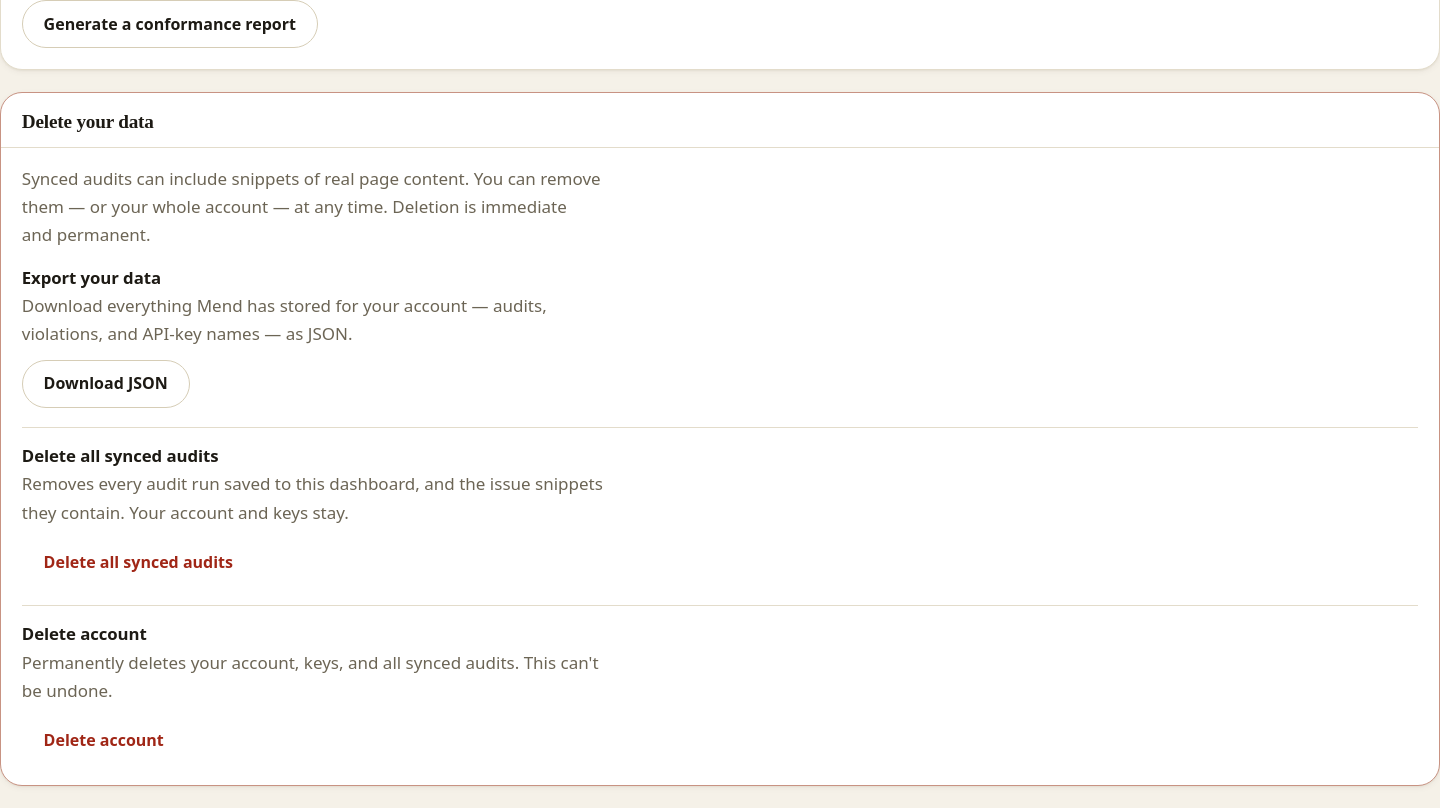
Test case: AccountClient — danger zone › requires two clicks to delete all audits, and Cancel disarms
The width and height of the screenshot is (1440, 808).
(page scrolled)
Note: First click only arms — nothing deleted yet.
Click the button "Delete all synced audits". click: click(138, 562)
box: [22,538,255,586]
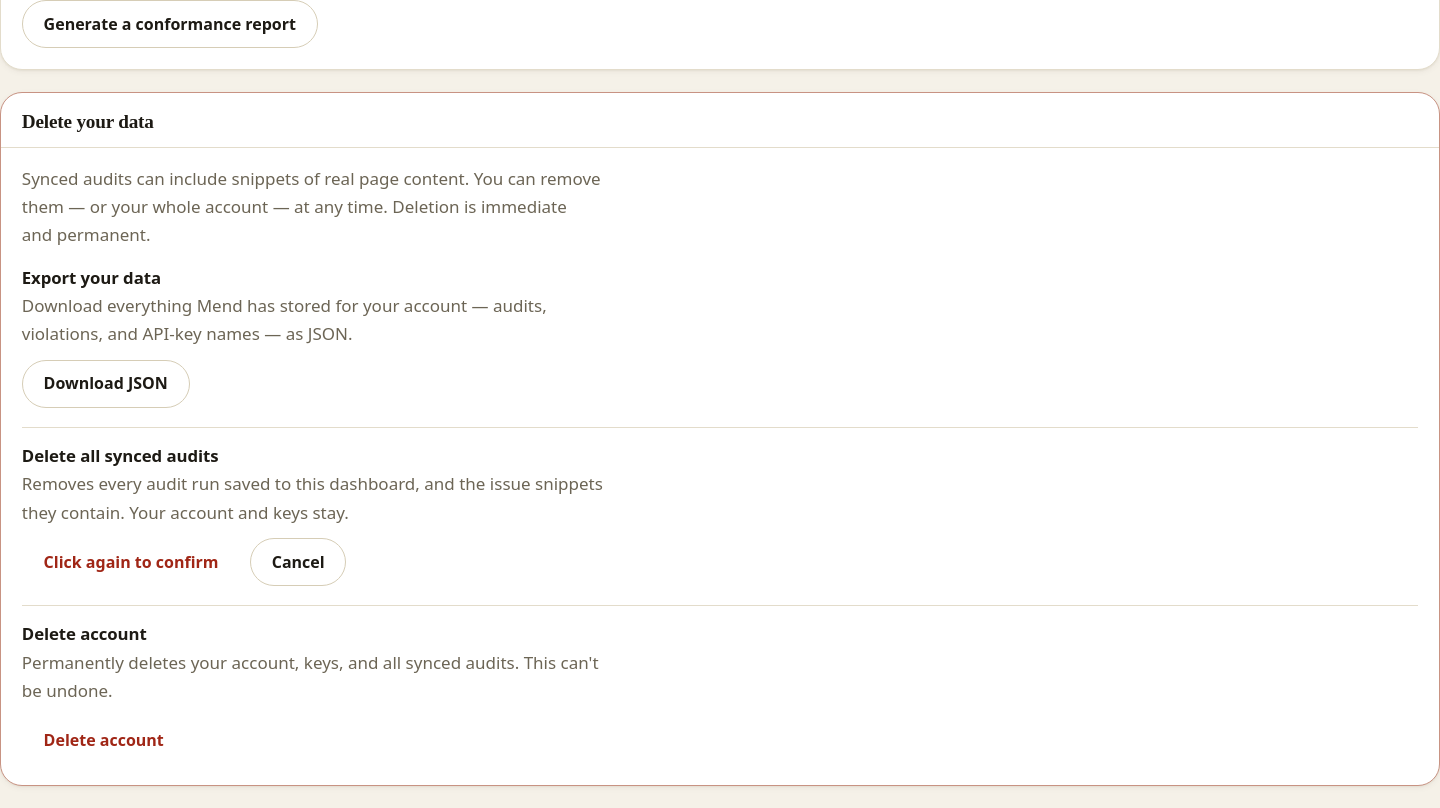
Note: Cancel disarms without deleting.
Click the button "Cancel". click: click(298, 562)
box: [250,538,346,586]
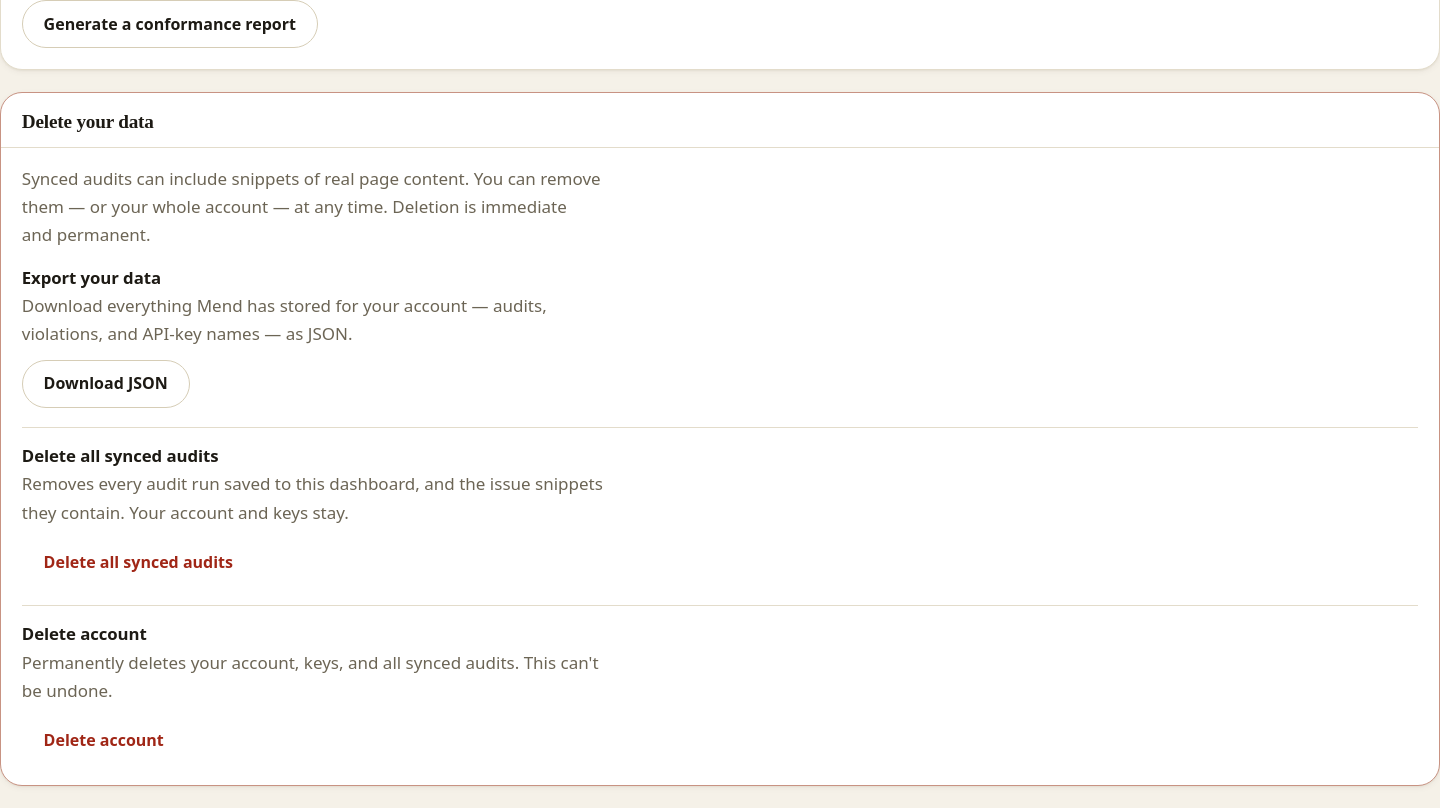
Note: Arm again, then confirm.
Click the button "Delete all synced audits". click: click(138, 562)
box: [22,538,255,586]
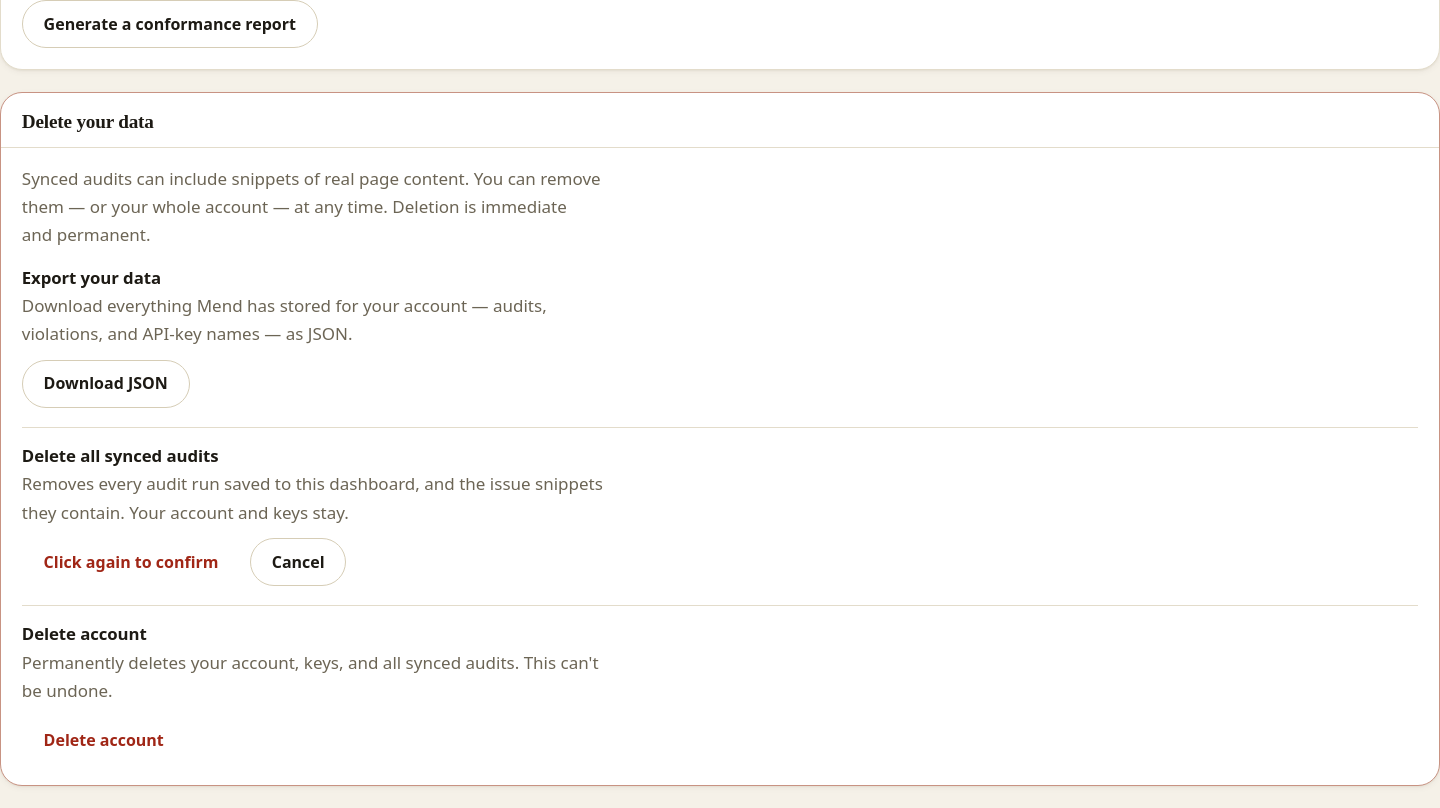
Click the button "Click again to confirm". click: click(131, 562)
box: [22,538,240,586]
(page scrolled)
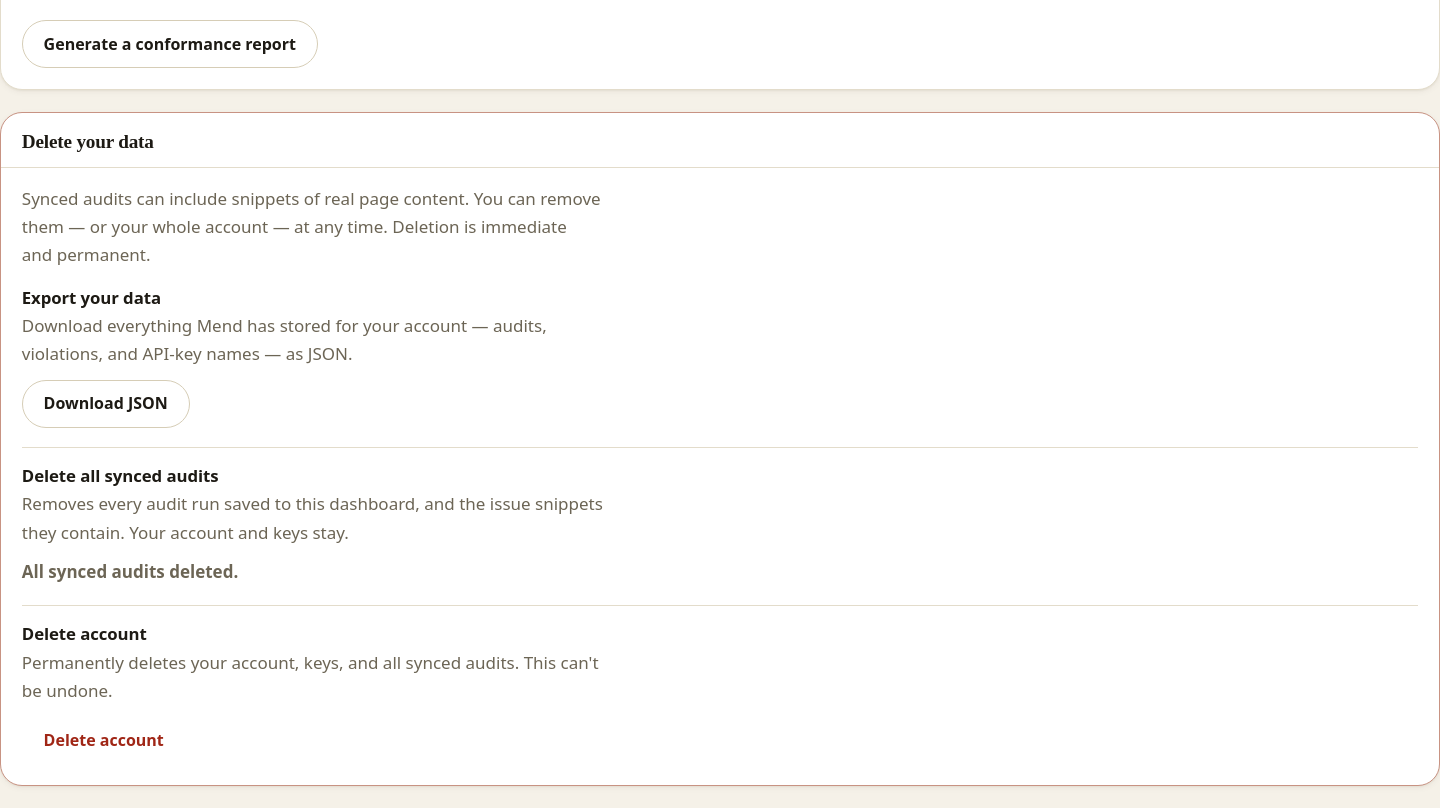
Expected: the text "All synced audits deleted." is shown, [22,560,238,583]
